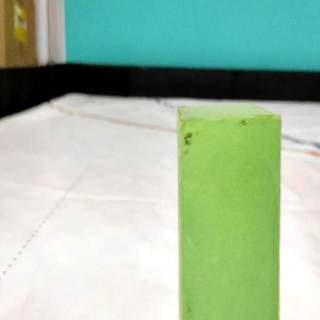greenbox: (179, 105, 281, 320)
